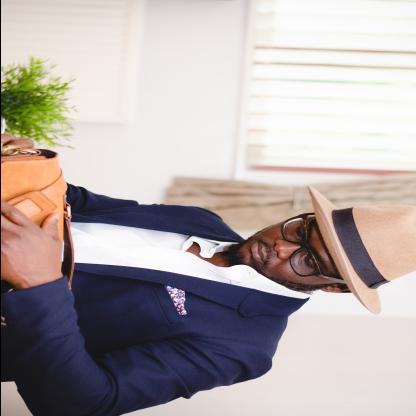glasses: (279, 212, 347, 288)
hat: (297, 185, 416, 316)
